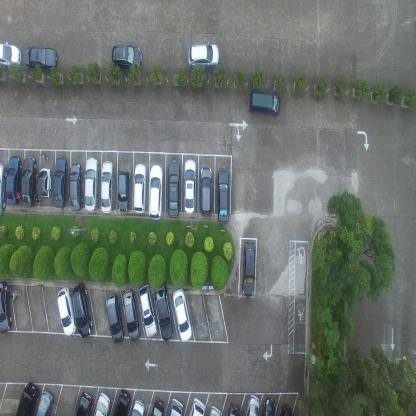car: (154, 282, 174, 342), (172, 287, 193, 342), (72, 282, 92, 338), (138, 283, 158, 339), (56, 286, 77, 336), (121, 289, 140, 342), (247, 89, 280, 117), (106, 293, 124, 344), (24, 46, 58, 72), (241, 240, 256, 298), (21, 155, 37, 209), (186, 42, 219, 68), (148, 164, 163, 220), (6, 155, 22, 207), (84, 155, 98, 214), (16, 382, 40, 415), (183, 158, 197, 214), (112, 43, 142, 69), (100, 159, 114, 214), (53, 156, 67, 209), (167, 160, 180, 217), (0, 279, 13, 336), (133, 162, 147, 214), (0, 40, 23, 71), (216, 170, 229, 224), (199, 165, 212, 217), (69, 162, 82, 212), (116, 170, 130, 212), (36, 389, 54, 415), (75, 391, 93, 416), (37, 166, 51, 198), (114, 389, 130, 415), (94, 392, 111, 416), (0, 161, 7, 217), (244, 393, 260, 415), (189, 397, 206, 415), (130, 398, 146, 416), (168, 397, 184, 415), (150, 397, 165, 415), (262, 396, 276, 415), (226, 403, 241, 415), (279, 403, 294, 415), (209, 405, 222, 415)
